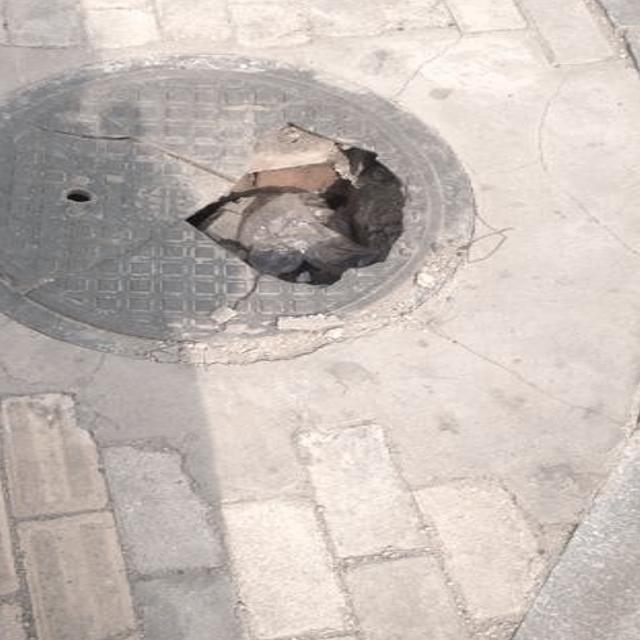broke: (0, 36, 508, 383)
